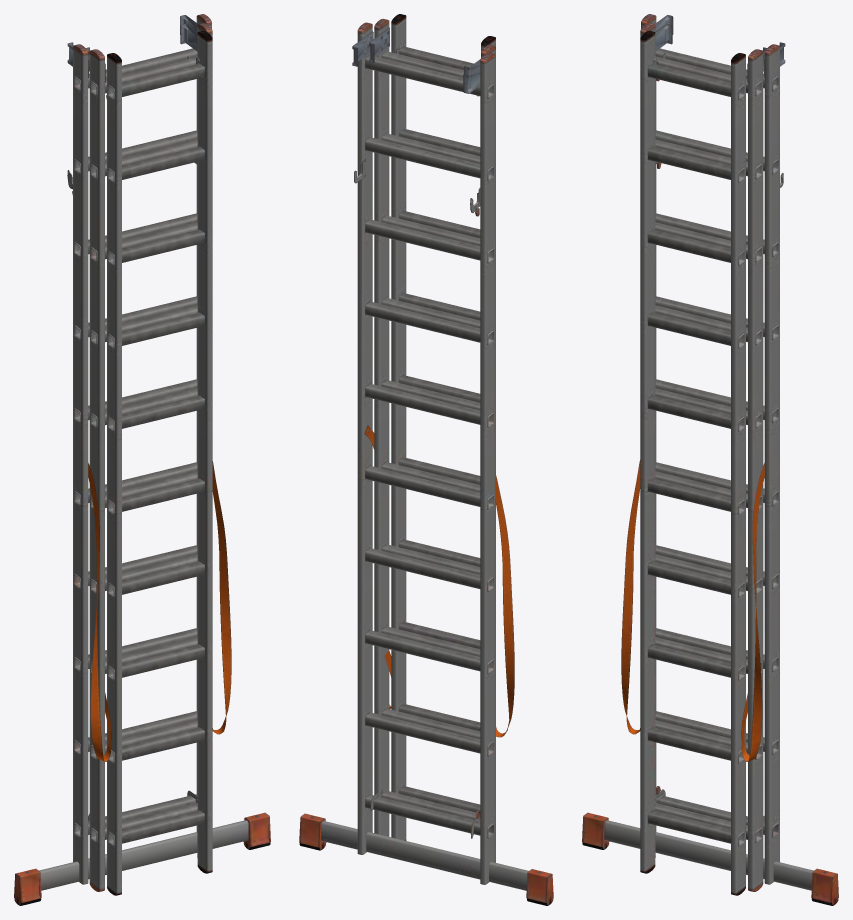
Rendered from ladder.glb.
3 views of the same model, side by side, from view 1: azimuth 30°, elevation 25°; view 2: azimuth 150°, elevation 25°; view 3: azimuth 330°, elevation 25° (orthographic).
Visible parts, largest first — view 1: ladder_section_03, ladder_section_01, ladder_section_02, ladder_ribbon; view 2: ladder_section_01, ladder_section_02, ladder_section_03, ladder_ribbon; view 3: ladder_section_03, ladder_section_01, ladder_section_02, ladder_ribbon.
Part boxes in pixels (x1,y1,x2,y2): ladder_section_03: (106, 30, 212, 895); ladder_section_01: (14, 14, 270, 905); ladder_section_02: (86, 23, 212, 891); ladder_ribbon: (88, 461, 231, 761); ladder_section_01: (299, 22, 553, 905); ladder_section_02: (369, 18, 495, 862); ladder_section_03: (388, 14, 495, 840); ladder_ribbon: (364, 425, 514, 737); ladder_section_03: (640, 30, 745, 895); ladder_section_01: (582, 14, 838, 905); ladder_section_02: (640, 23, 766, 891); ladder_ribbon: (621, 460, 764, 761).
Bounding box in the file's own units: 0.6615 × 2.13 × 0.1776.
1 material, 1 textured.
